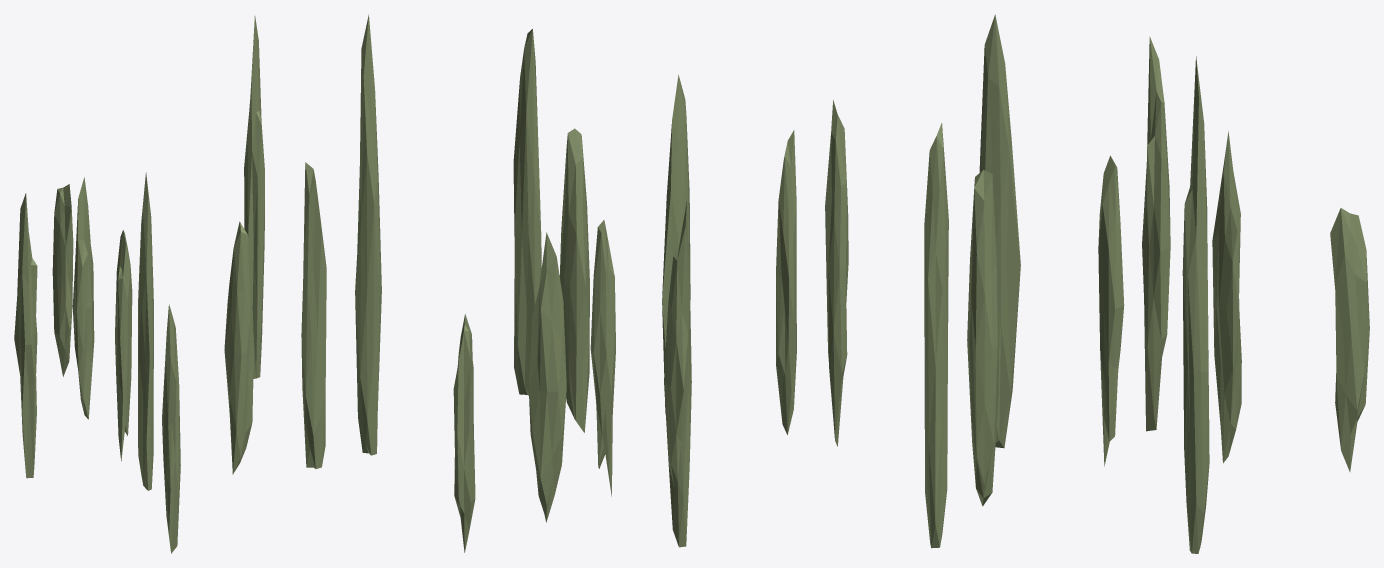
File: reed_clump_02.glb
The picture shows the model from 3 angles, left to right: view 1: azimuth 30°, elevation 25°; view 2: azimuth 150°, elevation 25°; view 3: azimuth 270°, elevation 25°; orthographic projection. The views are drawn at different scales.
Parts seen in each view (by area): view 1: reed_clump_02_1, reed_clump_02_6, reed_clump_02_2, reed_clump_02_5, reed_clump_02_3, reed_clump_02_7, reed_clump_02_0, reed_clump_02_8, reed_clump_02_4; view 2: reed_clump_02_2, reed_clump_02_1, reed_clump_02_7, reed_clump_02_6, reed_clump_02_5, reed_clump_02_0, reed_clump_02_4, reed_clump_02_3, reed_clump_02_8; view 3: reed_clump_02_2, reed_clump_02_1, reed_clump_02_3, reed_clump_02_6, reed_clump_02_5, reed_clump_02_8, reed_clump_02_7, reed_clump_02_0, reed_clump_02_4.
Part boxes in pixels (x1=…): reed_clump_02_1: x1=301, y1=162, x2=326, y2=468; reed_clump_02_6: x1=224, y1=221, x2=253, y2=474; reed_clump_02_2: x1=244, y1=16, x2=264, y2=378; reed_clump_02_5: x1=14, y1=193, x2=37, y2=478; reed_clump_02_3: x1=138, y1=172, x2=153, y2=490; reed_clump_02_7: x1=72, y1=177, x2=94, y2=419; reed_clump_02_0: x1=162, y1=304, x2=180, y2=553; reed_clump_02_8: x1=52, y1=184, x2=73, y2=376; reed_clump_02_4: x1=115, y1=230, x2=132, y2=461; reed_clump_02_2: x1=355, y1=14, x2=381, y2=455; reed_clump_02_1: x1=513, y1=29, x2=541, y2=395; reed_clump_02_7: x1=528, y1=232, x2=566, y2=522; reed_clump_02_6: x1=559, y1=128, x2=589, y2=432; reed_clump_02_5: x1=664, y1=201, x2=691, y2=547; reed_clump_02_0: x1=776, y1=130, x2=796, y2=434; reed_clump_02_4: x1=590, y1=220, x2=615, y2=496; reed_clump_02_3: x1=662, y1=74, x2=690, y2=412; reed_clump_02_8: x1=453, y1=314, x2=475, y2=552; reed_clump_02_2: x1=1182, y1=56, x2=1209, y2=553; reed_clump_02_1: x1=924, y1=122, x2=948, y2=548; reed_clump_02_3: x1=979, y1=14, x2=1020, y2=448; reed_clump_02_6: x1=967, y1=169, x2=999, y2=506; reed_clump_02_5: x1=1142, y1=36, x2=1170, y2=431; reed_clump_02_8: x1=1330, y1=208, x2=1369, y2=472; reed_clump_02_7: x1=1212, y1=131, x2=1241, y2=463; reed_clump_02_0: x1=825, y1=100, x2=848, y2=446; reed_clump_02_4: x1=1098, y1=155, x2=1124, y2=466.
Bounding box in the file's own units: 0.5028 × 0.7249 × 0.6677.
